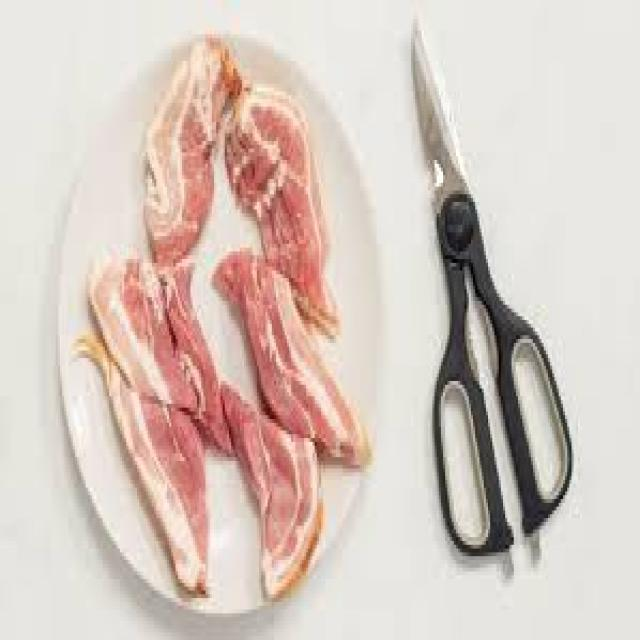scissor: (409, 8, 576, 579)
